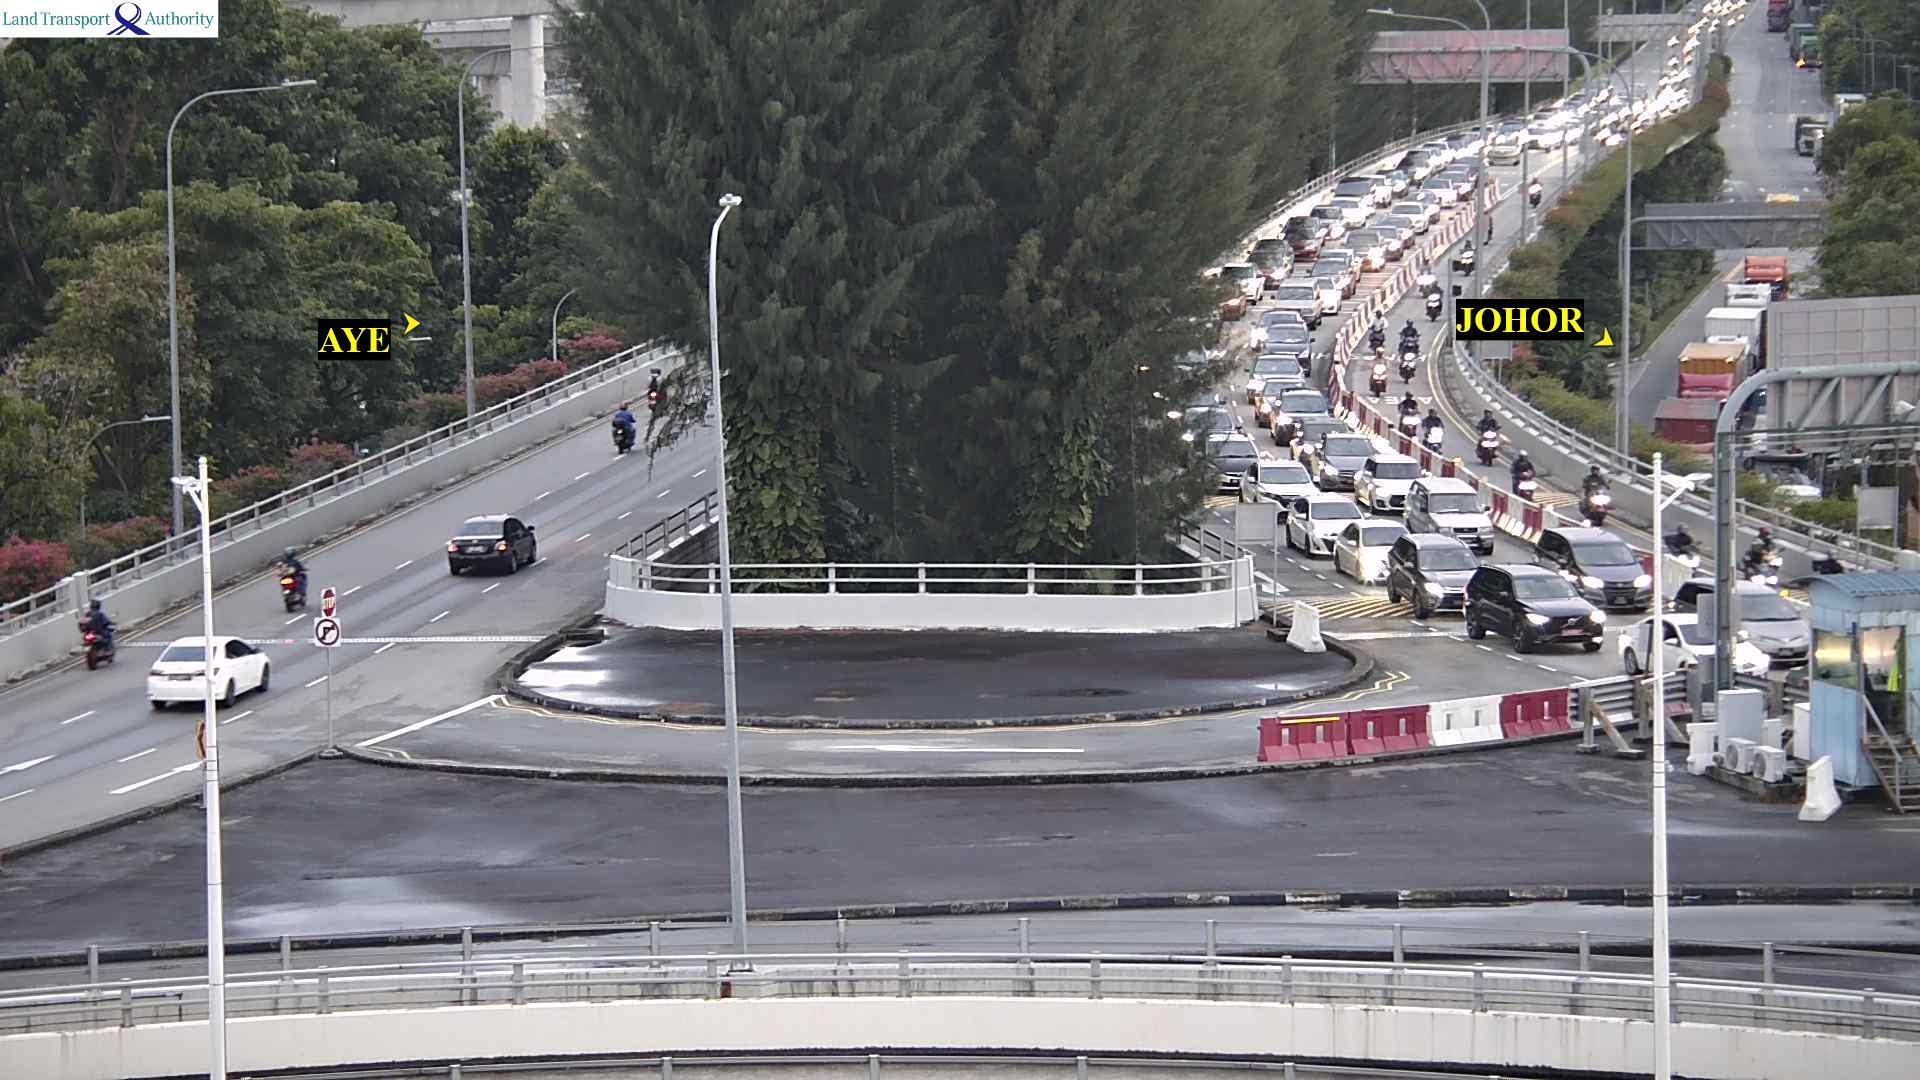vehicle-secondlink-johor: (1458, 567, 1614, 644), (1534, 535, 1659, 609), (1618, 616, 1758, 670), (1386, 539, 1495, 608), (1664, 582, 1816, 629), (1395, 487, 1507, 535), (1286, 496, 1387, 543), (1348, 460, 1440, 510), (1305, 440, 1391, 484), (1266, 394, 1333, 443), (1187, 433, 1251, 483), (1246, 464, 1324, 504), (1265, 284, 1336, 318), (1217, 264, 1278, 297), (1251, 353, 1304, 389), (1253, 377, 1299, 417), (1298, 265, 1360, 294), (1668, 526, 1702, 575), (1341, 235, 1395, 261), (1280, 220, 1325, 249), (1178, 409, 1226, 435), (1321, 196, 1364, 227), (1749, 529, 1774, 579), (1588, 465, 1610, 520), (1337, 177, 1378, 206), (1251, 240, 1287, 269), (1513, 446, 1534, 495), (1477, 415, 1505, 452), (1308, 210, 1345, 237), (1379, 216, 1415, 244), (1402, 319, 1419, 375), (1523, 173, 1543, 219), (1391, 203, 1431, 225), (1396, 389, 1416, 433), (1422, 178, 1453, 204), (1362, 171, 1393, 198), (1486, 137, 1520, 160), (1816, 547, 1841, 576), (1524, 127, 1555, 149), (1403, 193, 1437, 212), (1424, 406, 1440, 448), (1444, 169, 1472, 191), (1456, 237, 1473, 273), (1369, 310, 1383, 351), (1399, 156, 1425, 178), (1424, 138, 1453, 157), (1383, 167, 1407, 190), (1425, 281, 1439, 320), (1458, 157, 1486, 175), (1412, 148, 1437, 167), (1416, 253, 1429, 287), (1373, 348, 1383, 389)
vehicle-secondlink-singapore: (146, 637, 273, 707), (452, 512, 545, 576), (76, 611, 128, 670), (277, 545, 309, 605), (604, 400, 636, 448)
